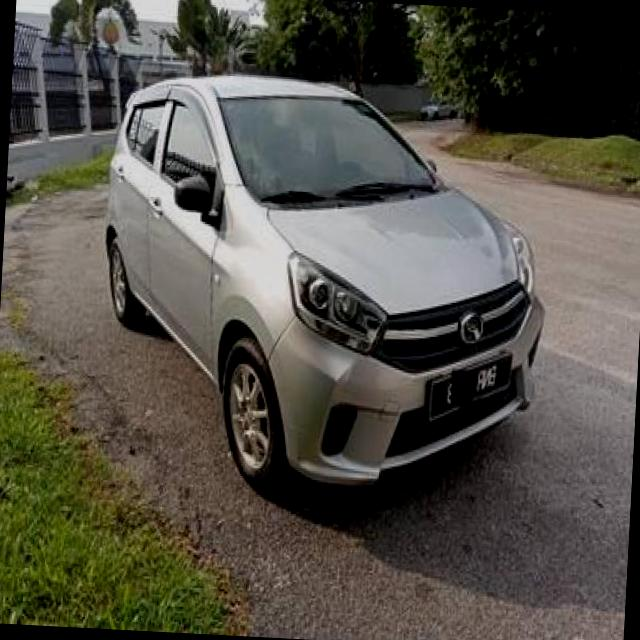PeroduaAxia: (91, 65, 558, 508)
